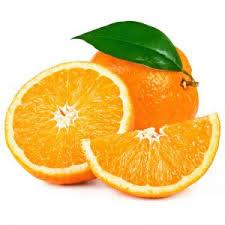orange: (0, 26, 225, 210), (0, 58, 132, 191), (74, 120, 225, 215), (80, 21, 203, 128)
